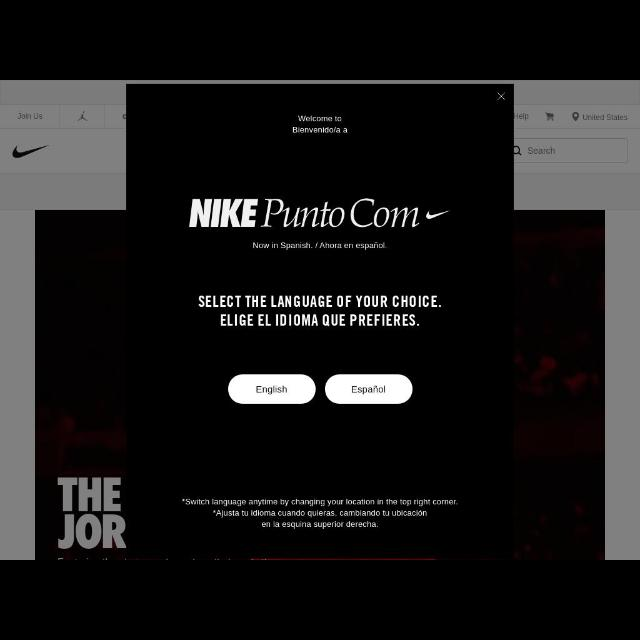icon: (78, 111, 88, 121), (514, 145, 522, 155), (572, 112, 580, 122), (546, 112, 554, 122), (498, 92, 506, 100)
image: (35, 210, 125, 558), (188, 198, 450, 228), (12, 146, 50, 158)
input: (514, 138, 628, 162)
panel: (125, 84, 512, 558)
text: (198, 294, 442, 308), (182, 497, 458, 507), (220, 314, 420, 326), (212, 508, 428, 518), (253, 242, 387, 250), (261, 521, 379, 529), (294, 126, 348, 134), (298, 115, 342, 122), (582, 114, 628, 120), (352, 386, 386, 394), (256, 386, 288, 394), (528, 147, 556, 155), (18, 112, 42, 120), (513, 112, 529, 121)
textbutton: (228, 374, 316, 404), (325, 374, 413, 404)
